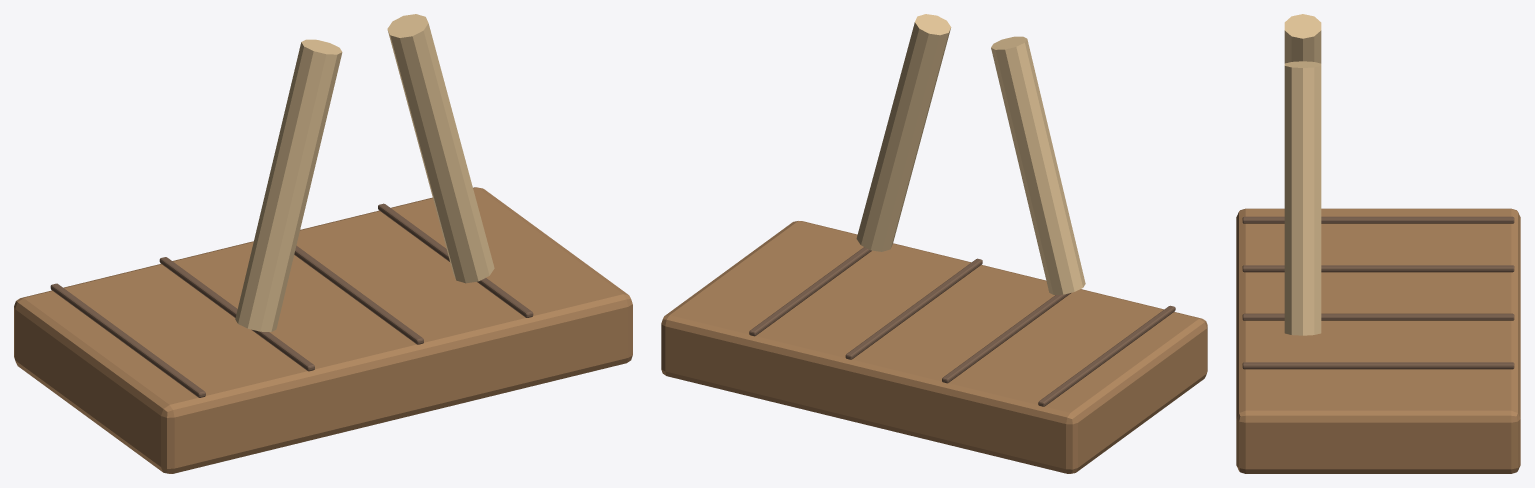
Rendered from kabuki_tsukeita.glb.
3 views of the same model, side by side, from view 1: azimuth 30°, elevation 25°; view 2: azimuth 150°, elevation 25°; view 3: azimuth 270°, elevation 25° (orthographic). The views are drawn at different scales.
Parts seen in each view (by area): view 1: Kabuki tsukeita resonant stage board, Tsukeita clapping block, Tsukeita clapping block.001, Board wood plank visible seam, Board wood plank visible seam.001, Board wood plank visible seam.002, Board wood plank visible seam.003; view 2: Kabuki tsukeita resonant stage board, Tsukeita clapping block, Tsukeita clapping block.001, Board wood plank visible seam, Board wood plank visible seam.002, Board wood plank visible seam.001, Board wood plank visible seam.003; view 3: Kabuki tsukeita resonant stage board, Tsukeita clapping block.001, Board wood plank visible seam.003, Board wood plank visible seam, Board wood plank visible seam.001, Board wood plank visible seam.002, Tsukeita clapping block.
Part boxes in pixels (x1,y1,x2,y2): Kabuki tsukeita resonant stage board: [14, 187, 632, 473]; Tsukeita clapping block: [235, 39, 342, 331]; Tsukeita clapping block.001: [387, 14, 494, 283]; Board wood plank visible seam: [50, 283, 205, 397]; Board wood plank visible seam.001: [159, 257, 314, 371]; Board wood plank visible seam.002: [294, 245, 423, 344]; Board wood plank visible seam.003: [378, 203, 533, 317]; Kabuki tsukeita resonant stage board: [661, 221, 1207, 473]; Tsukeita clapping block: [991, 36, 1085, 294]; Tsukeita clapping block.001: [856, 14, 951, 251]; Board wood plank visible seam: [1038, 305, 1175, 406]; Board wood plank visible seam.002: [845, 258, 982, 359]; Board wood plank visible seam.001: [942, 293, 1070, 383]; Board wood plank visible seam.003: [749, 247, 871, 336]; Kabuki tsukeita resonant stage board: [1236, 208, 1520, 473]; Tsukeita clapping block.001: [1284, 61, 1321, 335]; Board wood plank visible seam.003: [1242, 362, 1514, 369]; Board wood plank visible seam: [1242, 216, 1514, 223]; Board wood plank visible seam.001: [1242, 265, 1514, 272]; Board wood plank visible seam.002: [1242, 313, 1514, 320]; Tsukeita clapping block: [1284, 14, 1321, 63].
Bounding box in the file's own units: 1.95 × 1.44 × 1.12.
